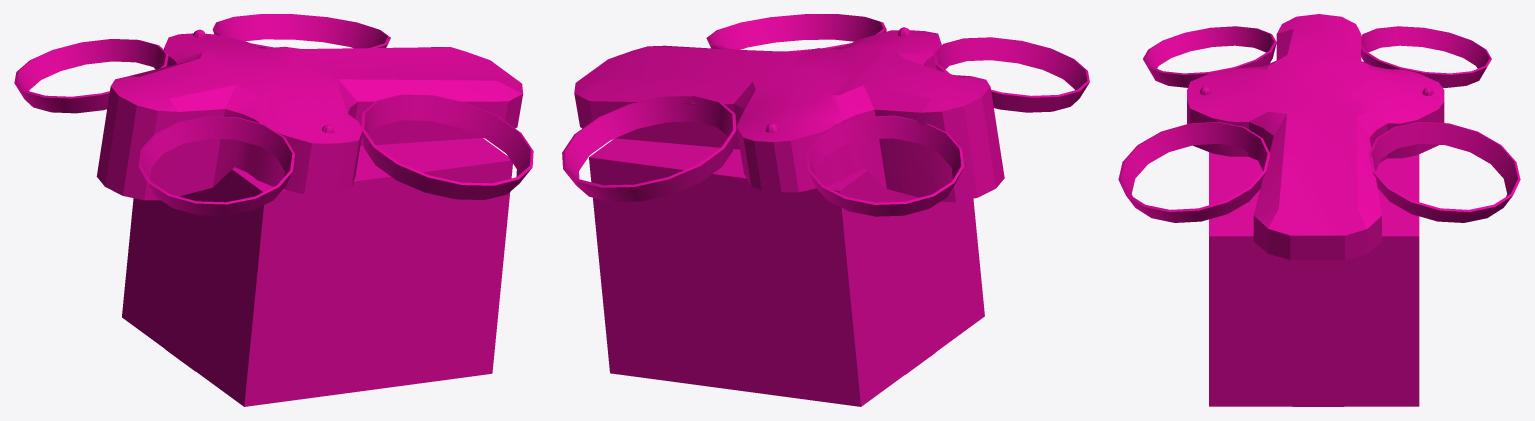
File: Drone.fbx
3 views of the same model, side by side, from view 1: azimuth 30°, elevation 25°; view 2: azimuth 150°, elevation 25°; view 3: azimuth 270°, elevation 25° (orthographic). The views are drawn at different scales.
Parts seen in each view (by area): view 1: Cube; view 2: Cube; view 3: Cube.
Boxes of the visible parts, x1,y1,x2,y2 form: Cube: (14,14,533,406); Cube: (562,14,1089,406); Cube: (1118,14,1520,406).
Bounding box in the file's own units: 306 × 214 × 295.
